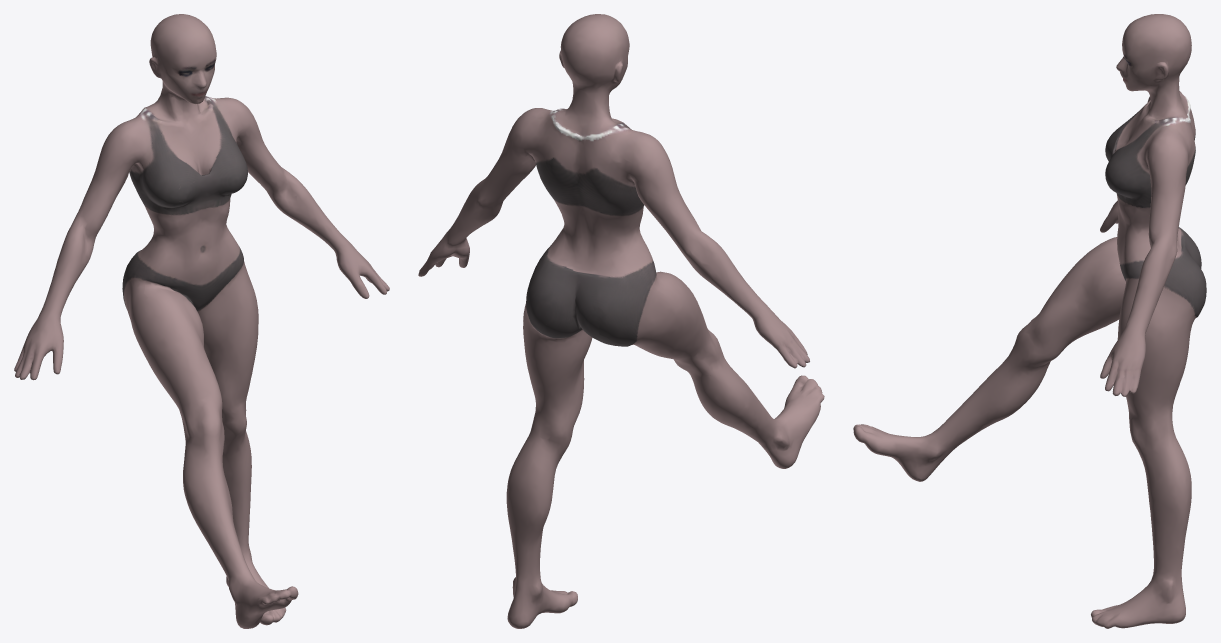
File: raw-ThighL-45.glb
3 renders of one model, left to right at view 1: azimuth 30°, elevation 25°; view 2: azimuth 150°, elevation 25°; view 3: azimuth 270°, elevation 25°, orthographic. The views are drawn at different scales.
Visible parts, largest first — view 1: raw-ThighL-45; view 2: raw-ThighL-45; view 3: raw-ThighL-45.
Part boxes in pixels (x1,y1,x2,y2): raw-ThighL-45: (14, 14, 389, 628); raw-ThighL-45: (418, 14, 824, 628); raw-ThighL-45: (853, 14, 1206, 628).
Size of the model in its own units: 0.6509 by 1 by 0.5545.
1 material, 1 textured.
